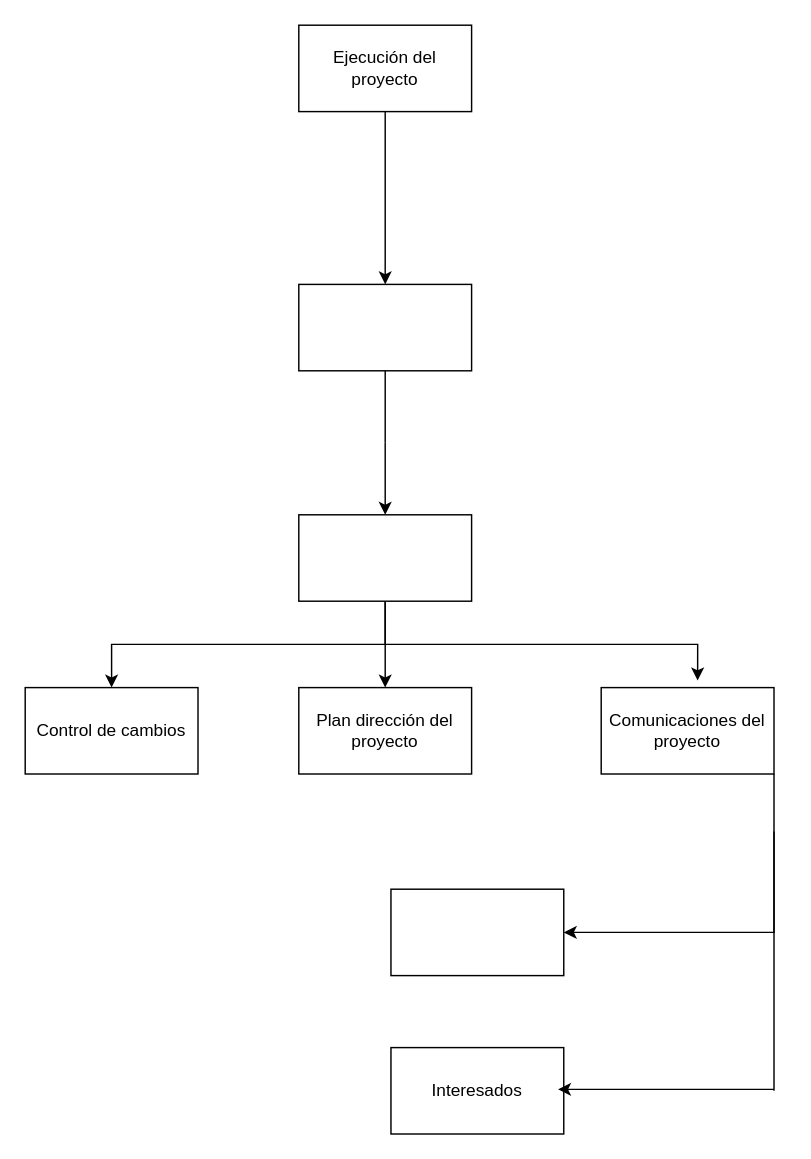
The diagram is 811 pixels wide and 1159 high, and some of its shapes have lost their labels. Each missing label, with the centre of its shape:
Control de proyecto: the point at 384,557
Miembros del equipo: the point at 477,932
Procesos de control: the point at 384,327
